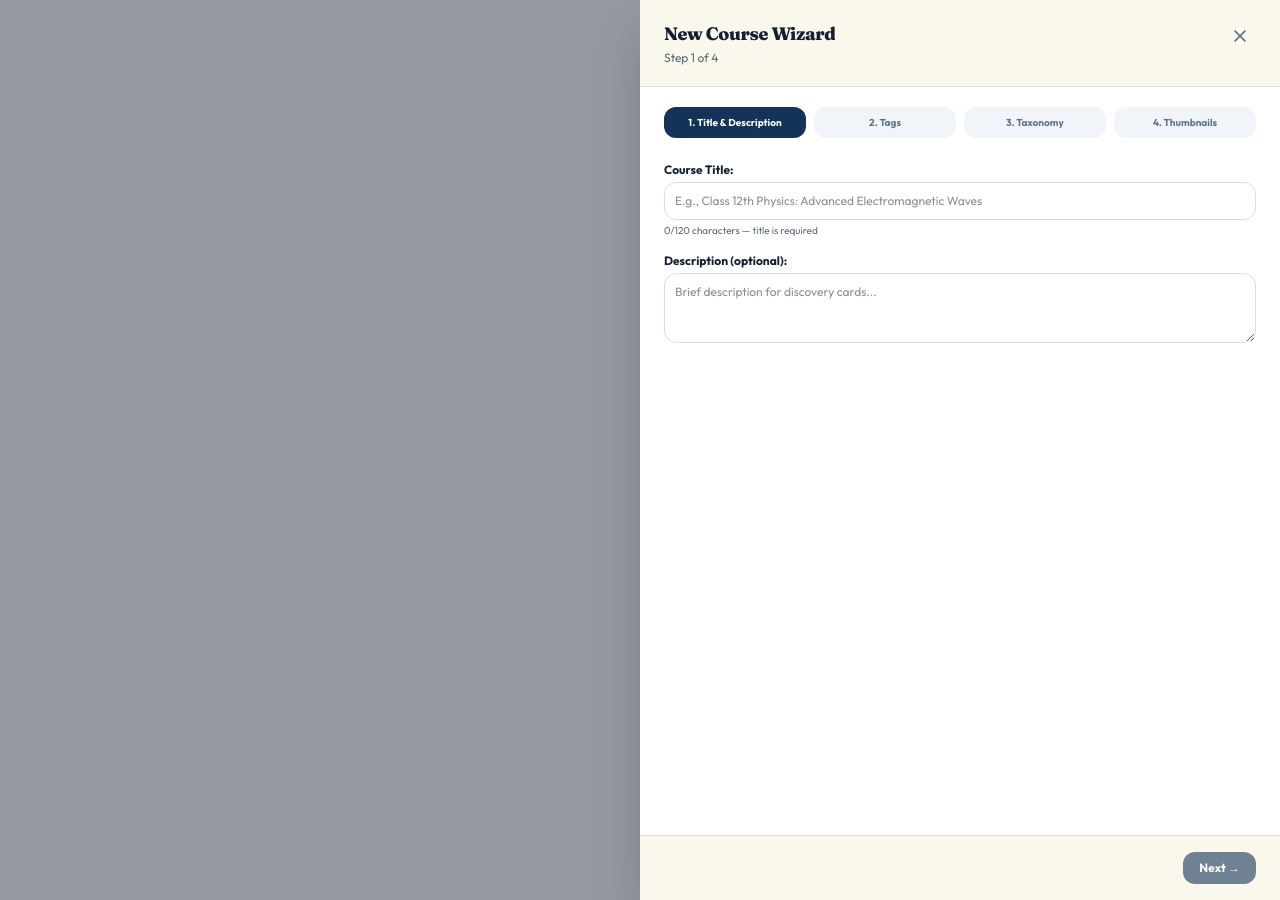
CourseWizard › Step 1: Next is disabled for an empty title, enabled once a valid title is entered
The width and height of the screenshot is (1280, 900).
Expected: the button "Next →" is disabled, [1183,852,1256,884]
Step 1. Type "Intro to Physics" into the field labelled "Course Title:" → (960, 201), box [664,182,1256,220]
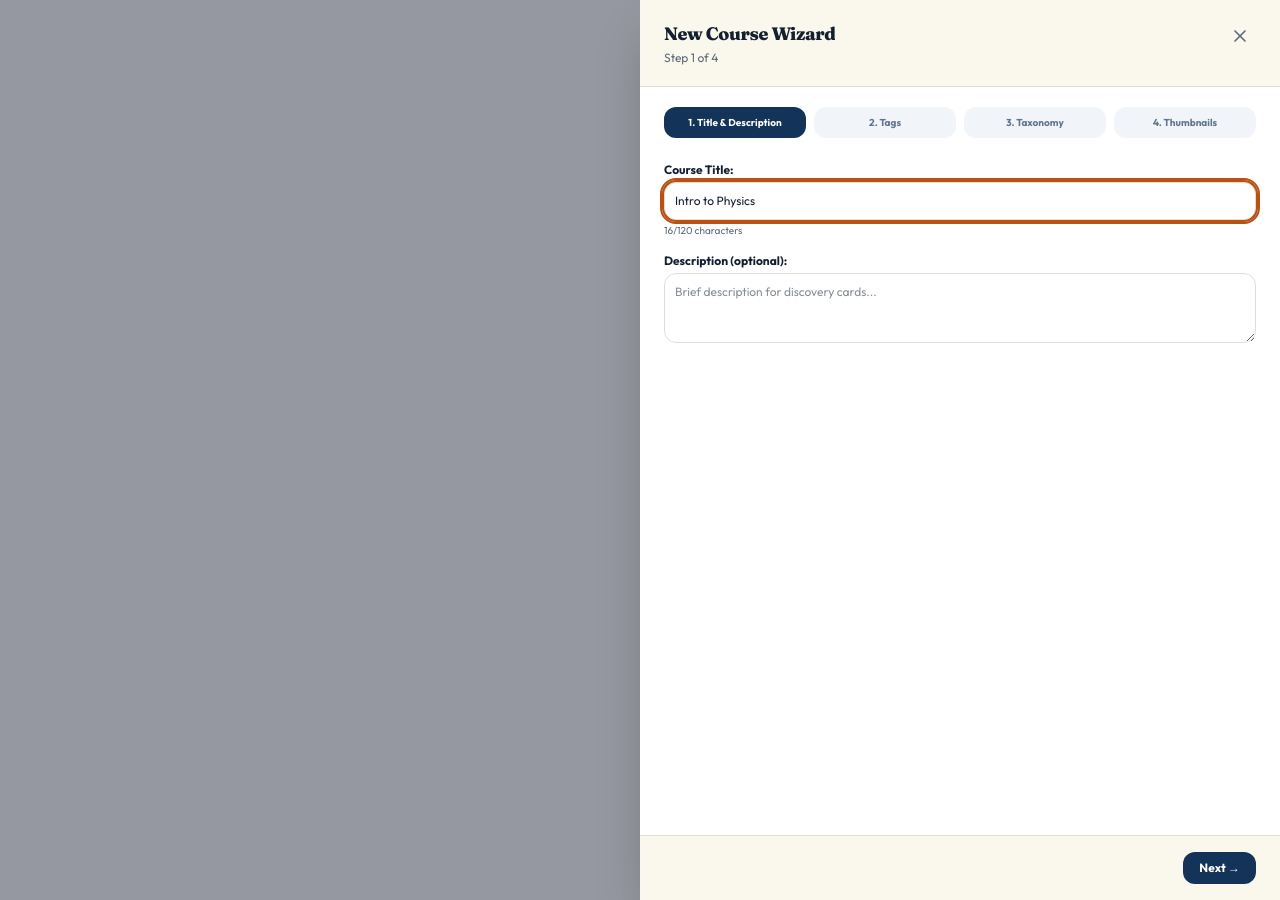
Now the button "Next →" is enabled, box [1183,852,1256,884]
